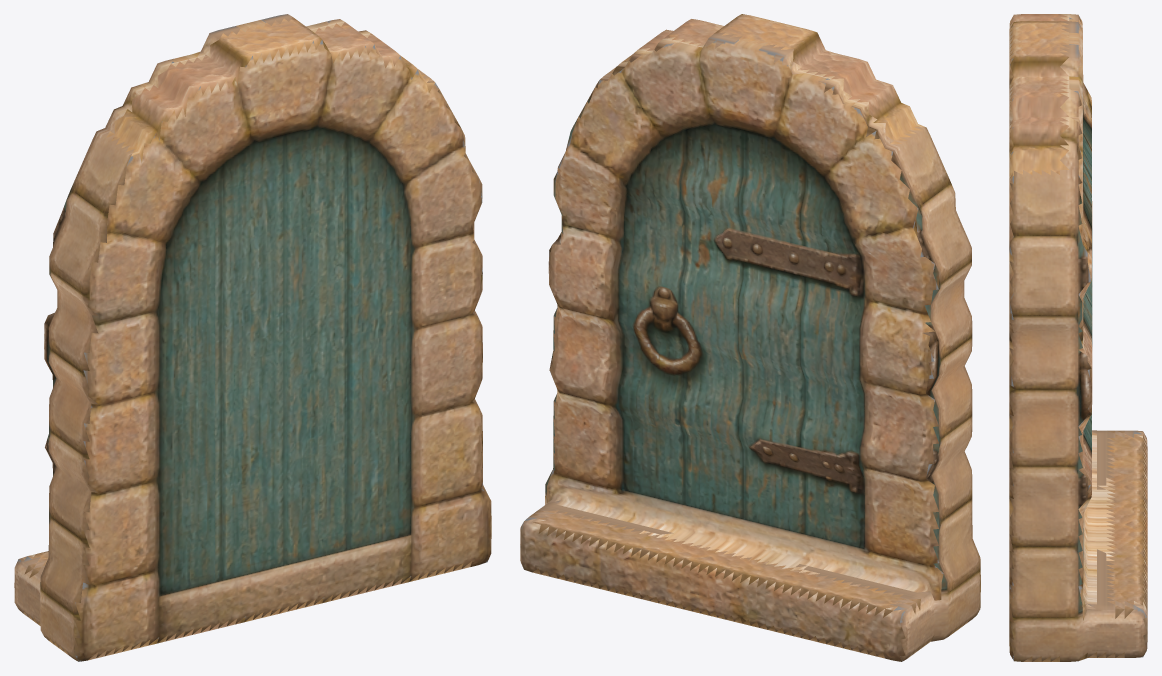
Rendered from house-door.glb.
3 renders of one model, left to right at view 1: azimuth 30°, elevation 25°; view 2: azimuth 150°, elevation 25°; view 3: azimuth 270°, elevation 25°, orthographic. The views are drawn at different scales.
Size of the model in its own units: 0.7717 by 1 by 0.2366.
Materials: 1 (1 with a texture image).
